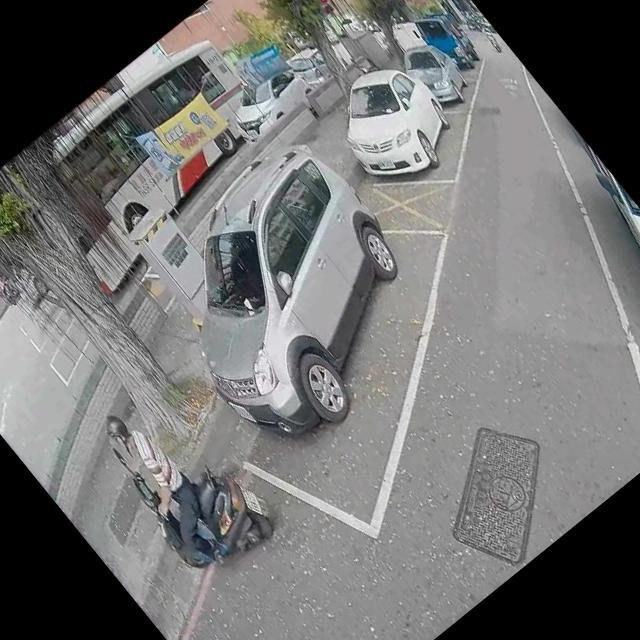person: (85, 394, 247, 578), (0, 266, 19, 303), (473, 16, 492, 37)
